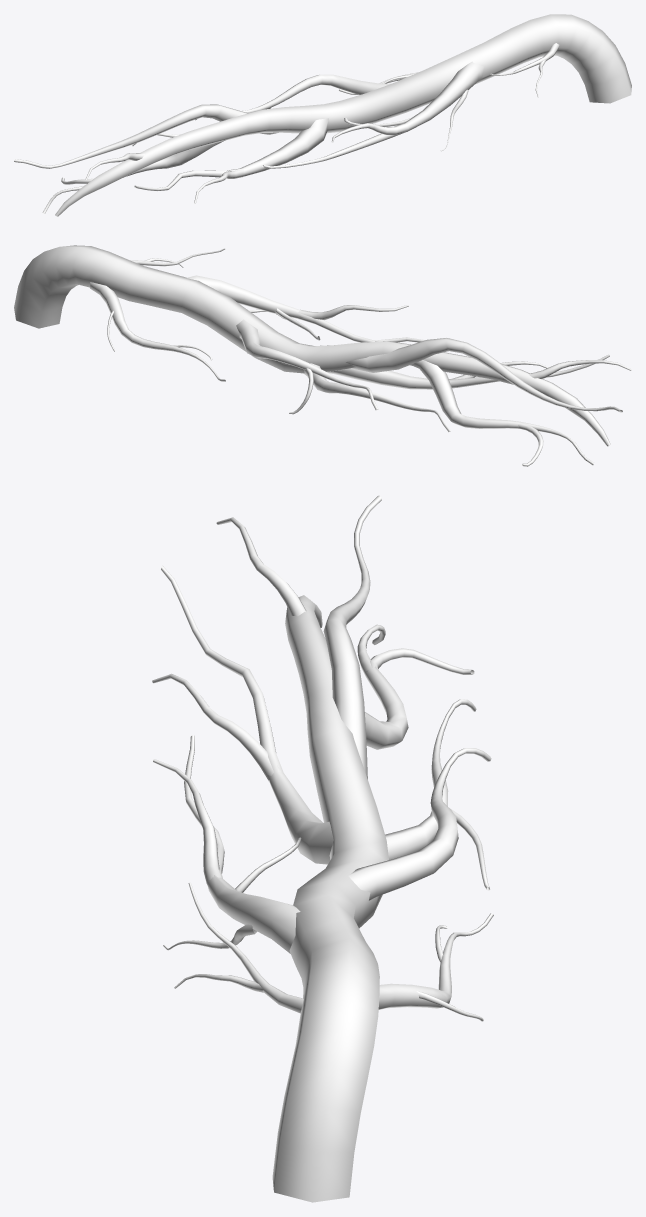
File: vfx_Tree.fbx
The picture shows the model from 3 angles, top to bottom: view 1: azimuth 30°, elevation 25°; view 2: azimuth 150°, elevation 25°; view 3: azimuth 270°, elevation 25°; orthographic projection. The views are drawn at different scales.
Visible parts, largest first — view 1: vfx_Tree; view 2: vfx_Tree; view 3: vfx_Tree.
Part boxes in pixels (x1=…): vfx_Tree: x1=14, y1=14, x2=631, y2=216; vfx_Tree: x1=14, y1=245, x2=631, y2=466; vfx_Tree: x1=152, y1=495, x2=493, y2=1202.
Bounding box in the file's own units: 2541 × 355 × 625.
